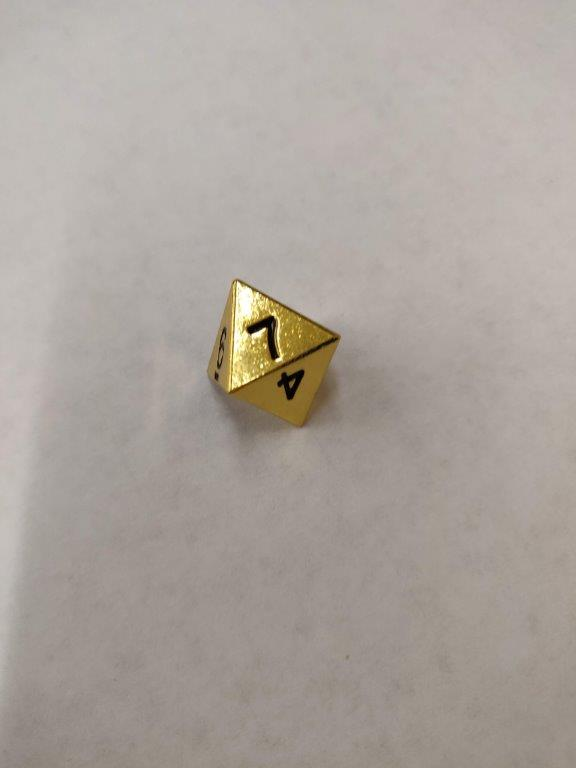d8-7: (205, 277, 345, 431)
